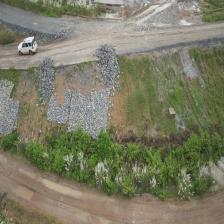rock_toe: (68, 88, 110, 138), (0, 80, 20, 135), (47, 89, 71, 124)
